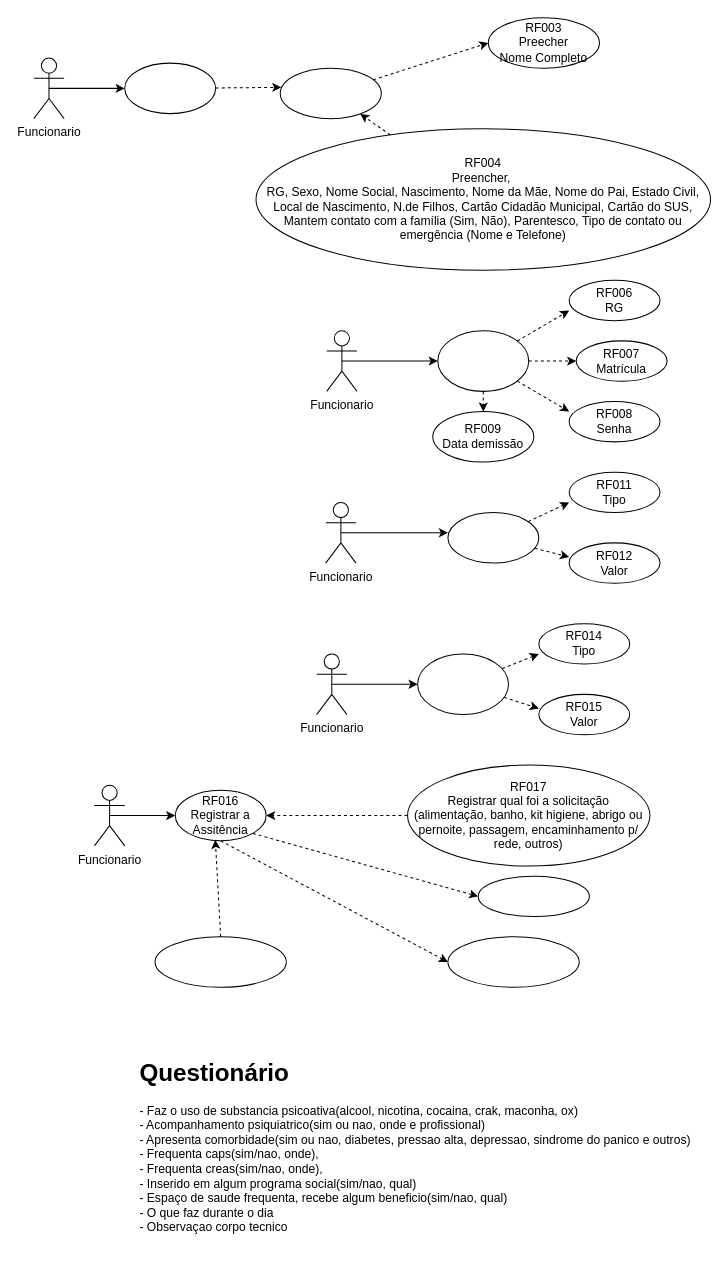
The diagram is 728 pixels wide and 1288 high, and some of its shapes have lost their labels. The shapes that lost their labels are listed below. From the top down, each one's centre as x and y in pixels, then its label:
the point at 170,88: RF001 Cadastrar assistido
the point at 330,93: RF002 Informar dados pessoais
the point at 483,360: RF005 Cadastrar funcionario
the point at 493,537: RF010 Cadastrar receitas
the point at 463,684: RF013 Cadastrar despesas
the point at 533,896: RF018 Data
the point at 220,961: RF020 Preencher/Atualizar Questionário
the point at 513,961: RF019 Nome Acolhido
